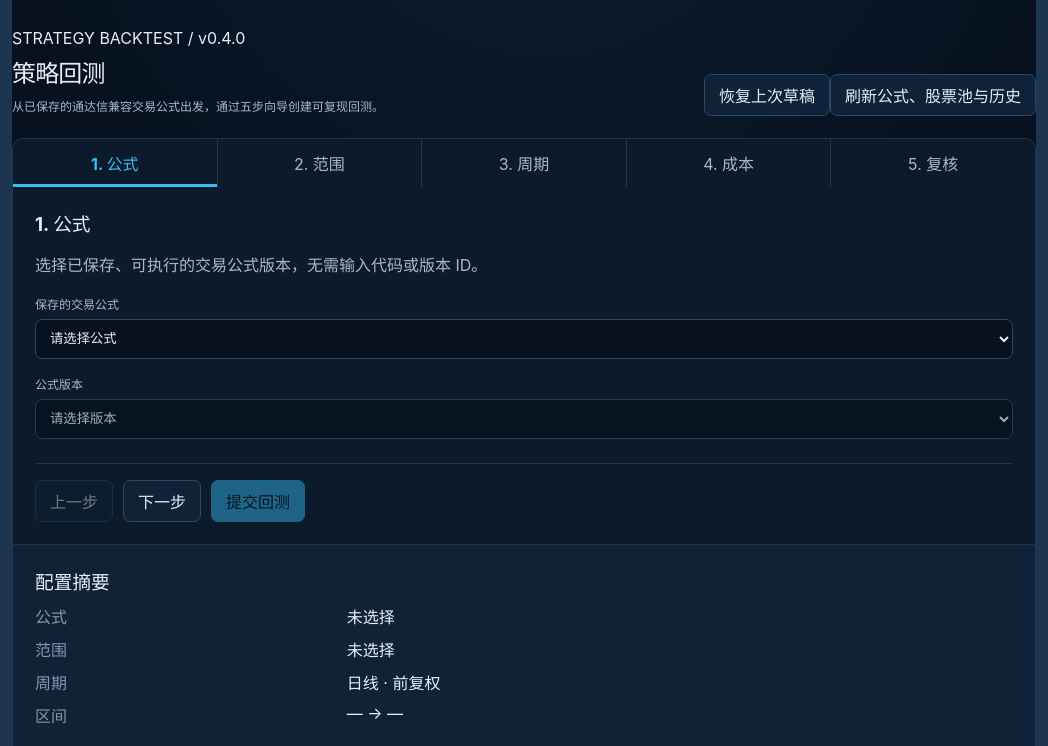
Test: offers explicit validated draft restoration and preflights again
The image size is (1048, 746).
Expected: the element named "当前配置摘要" shows "未选择", [347,607,395,627]
Click the button "恢复上次草稿" at (767, 95), box [704,74,830,116]
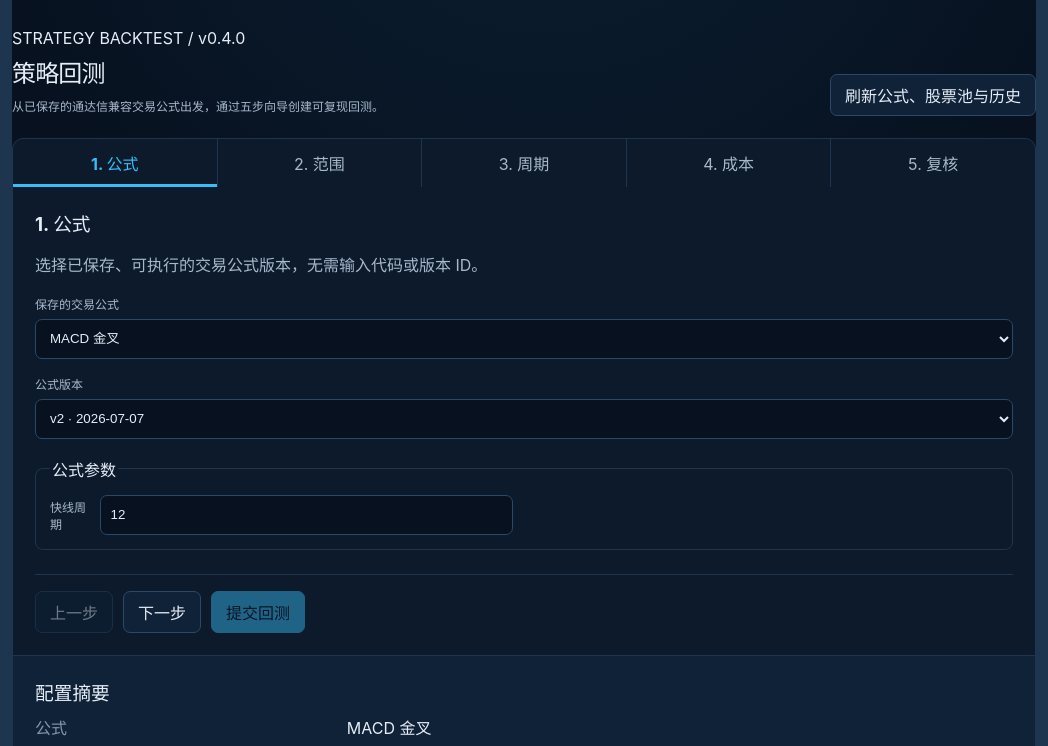
Click the button "2. 范围" at (319, 163), box [218,139,421,187]
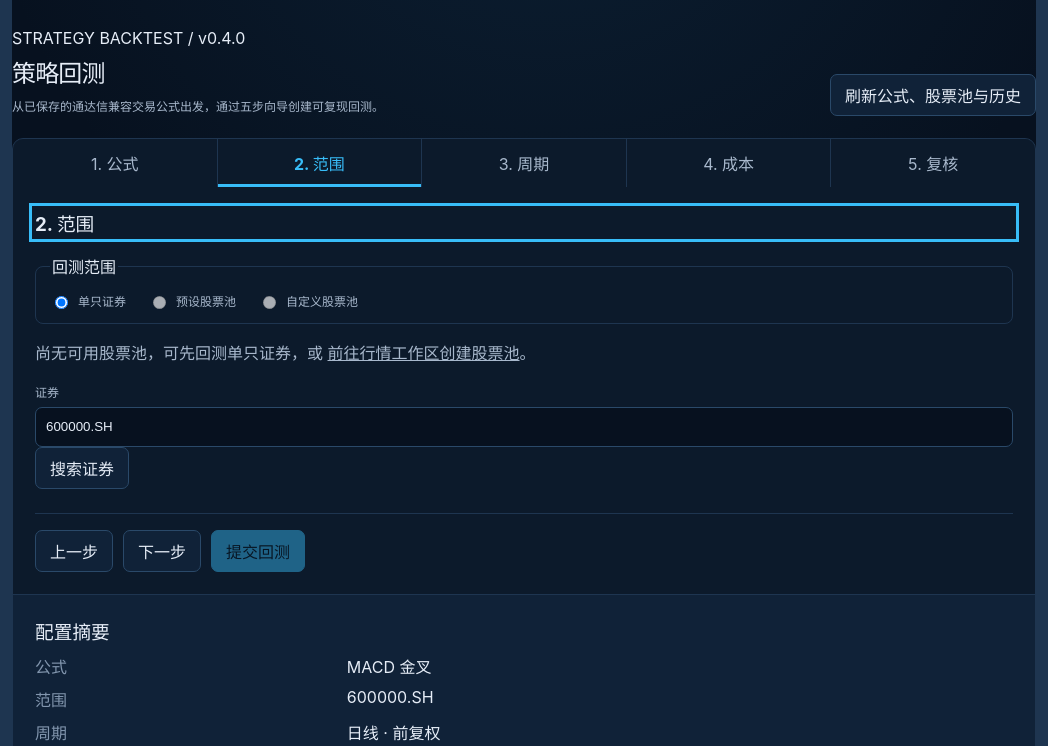
Result: the field labelled "证券" holds "600000.SH" at [35,407,1013,447]
